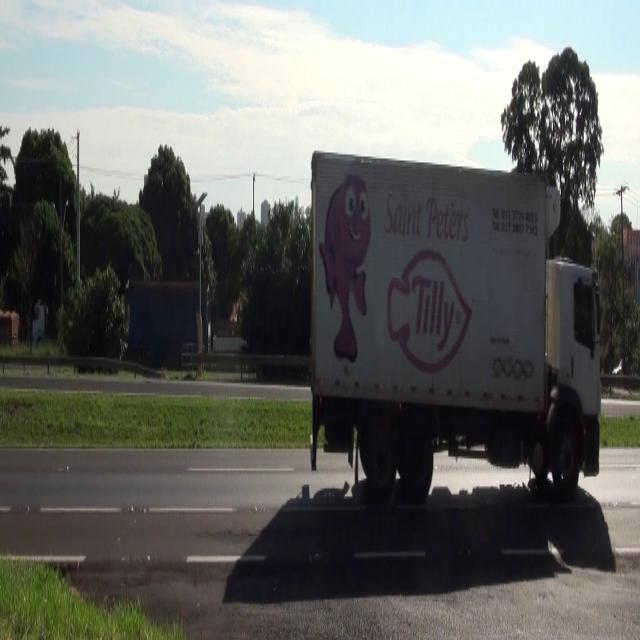-axle: (398, 416, 436, 503), (549, 414, 583, 500), (366, 416, 395, 503)
